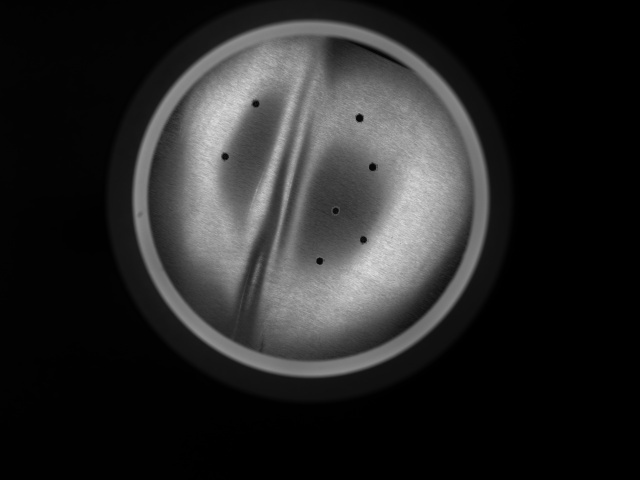zhe_zhou: (233, 40, 337, 357)
zhen_kong: (242, 93, 270, 116), (361, 156, 386, 181), (213, 144, 237, 170), (323, 201, 348, 225), (308, 250, 331, 274), (349, 108, 371, 131), (352, 230, 375, 251)
